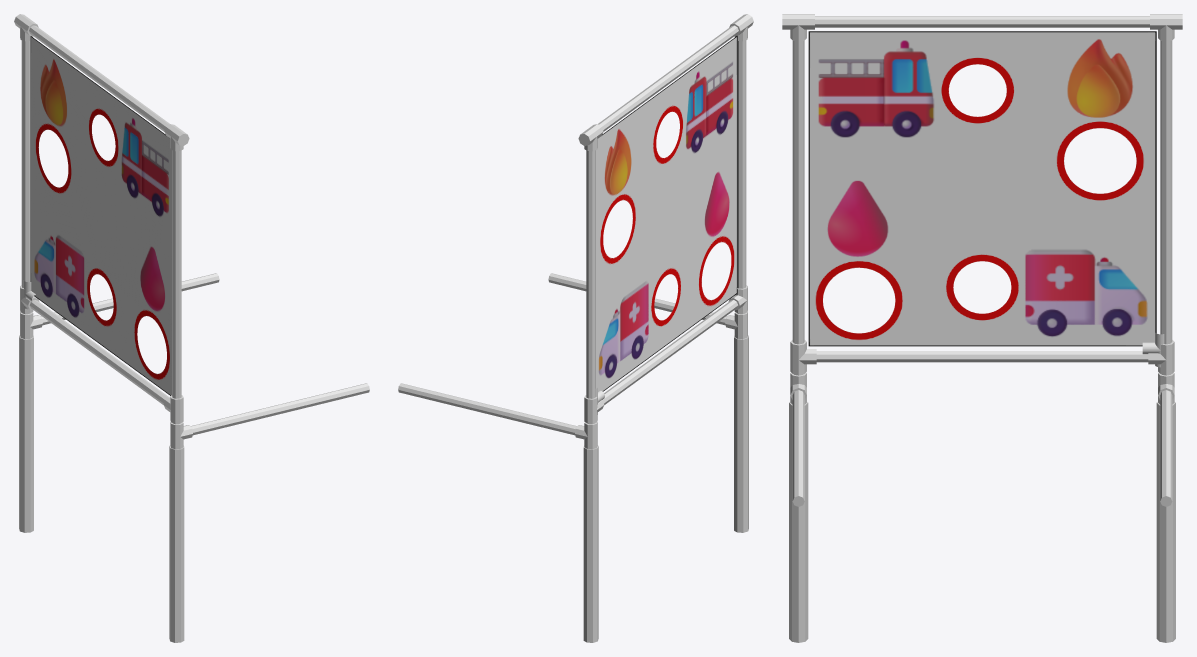
Rendered from torpedoMapping_2026_v1.glb.
The picture shows the model from 3 angles, left to right: view 1: azimuth 30°, elevation 25°; view 2: azimuth 150°, elevation 25°; view 3: azimuth 270°, elevation 25°; orthographic projection. The views are drawn at different scales.
Visible parts, largest first — view 1: Plane, Cylinder.006, Cylinder.005, Cylinder.003, Cylinder.015, Cylinder.001; view 2: Plane, Cylinder.006, Cylinder.003, Cylinder.005, Cylinder.001, Cylinder.015; view 3: Plane, Cylinder.006, Cylinder.005, Cylinder.003, Cylinder.015, Cylinder.001.
Boxes of the visible parts, x1=… form: Plane: x1=30, y1=36, x2=171, y2=395; Cylinder.006: x1=14, y1=14, x2=189, y2=423; Cylinder.005: x1=169, y1=445, x2=184, y2=642; Cylinder.003: x1=19, y1=335, x2=33, y2=532; Cylinder.015: x1=170, y1=383, x2=369, y2=449; Cylinder.001: x1=20, y1=273, x2=219, y2=339; Plane: x1=596, y1=36, x2=737, y2=391; Cylinder.006: x1=578, y1=14, x2=753, y2=423; Cylinder.003: x1=583, y1=445, x2=598, y2=642; Cylinder.005: x1=734, y1=335, x2=748, y2=532; Cylinder.001: x1=398, y1=383, x2=597, y2=449; Cylinder.015: x1=548, y1=273, x2=747, y2=339; Plane: x1=808, y1=31, x2=1156, y2=346; Cylinder.006: x1=782, y1=14, x2=1182, y2=374; Cylinder.005: x1=789, y1=402, x2=808, y2=642; Cylinder.003: x1=1156, y1=402, x2=1175, y2=642; Cylinder.015: x1=790, y1=372, x2=806, y2=506; Cylinder.001: x1=1158, y1=372, x2=1174, y2=506.
Size of the model in its own units: 0.4882 by 1.21 by 0.7017.
1 material, 1 textured.
